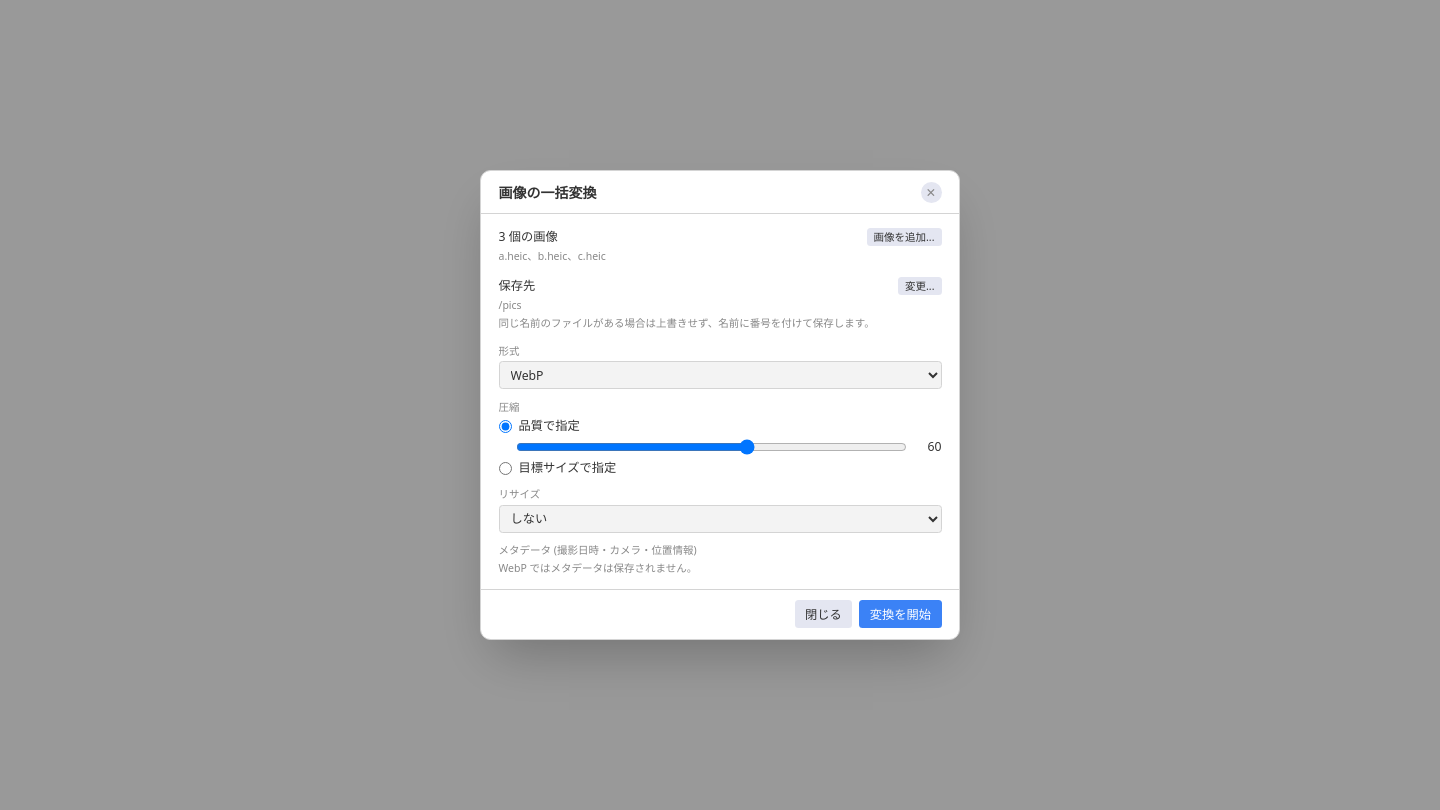
Scenario: BatchConvertDialog › 進み具合を表示し、終わったら件数・合計サイズ・失敗の理由を表示する
The width and height of the screenshot is (1440, 810).
Later steps or results of the test are not shown.
Click the button "変換を開始" at (900, 614), box [859,600,942,628]
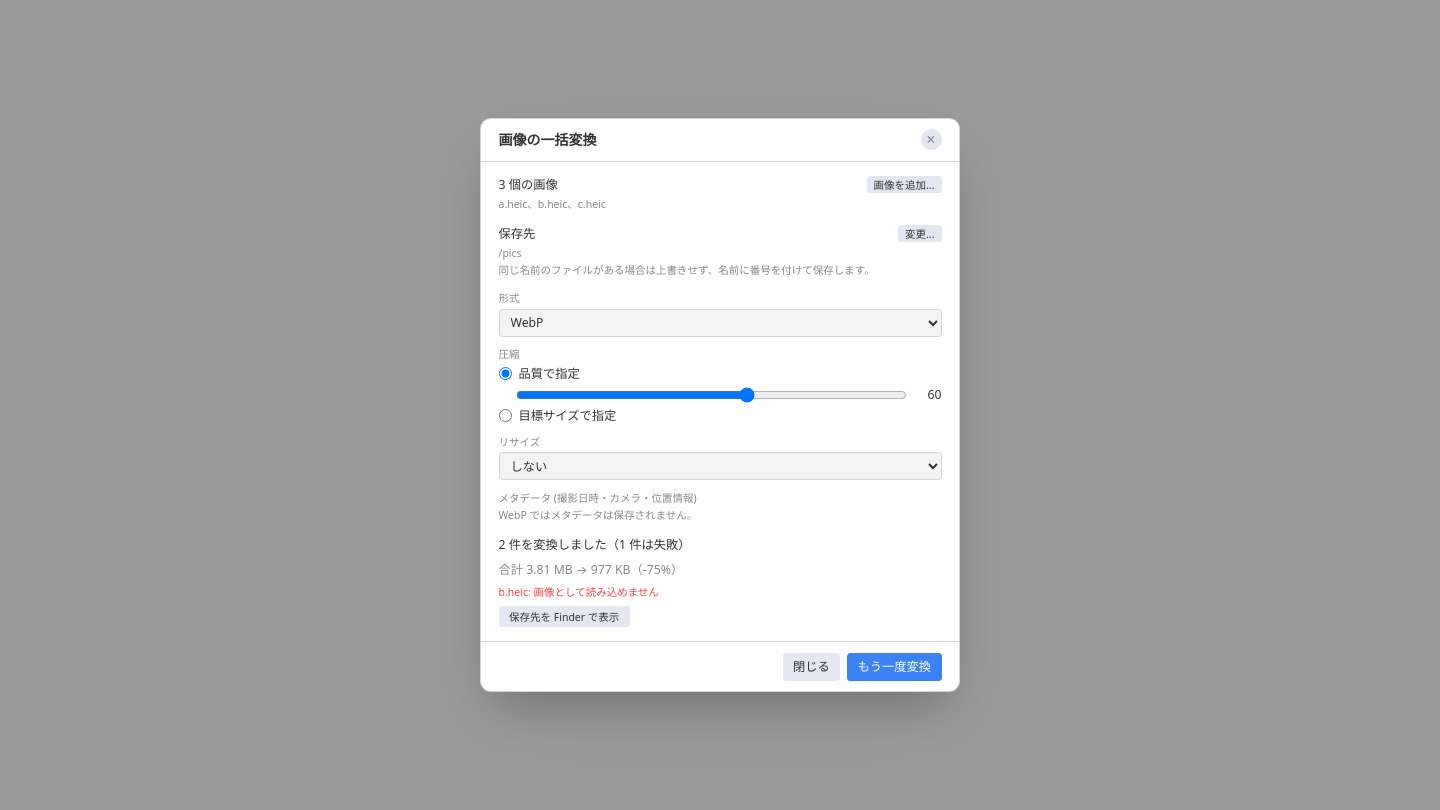
Now the text "2 件を変換しました（1 件は失敗）" is shown, box [498,536,690,553]
Now the text "合計 3.81 MB → 977 KB（-75%）" is shown, box [498,561,683,578]
Now the list item "b.heic: 画像として読み込めません" is shown, box [498,585,659,599]
